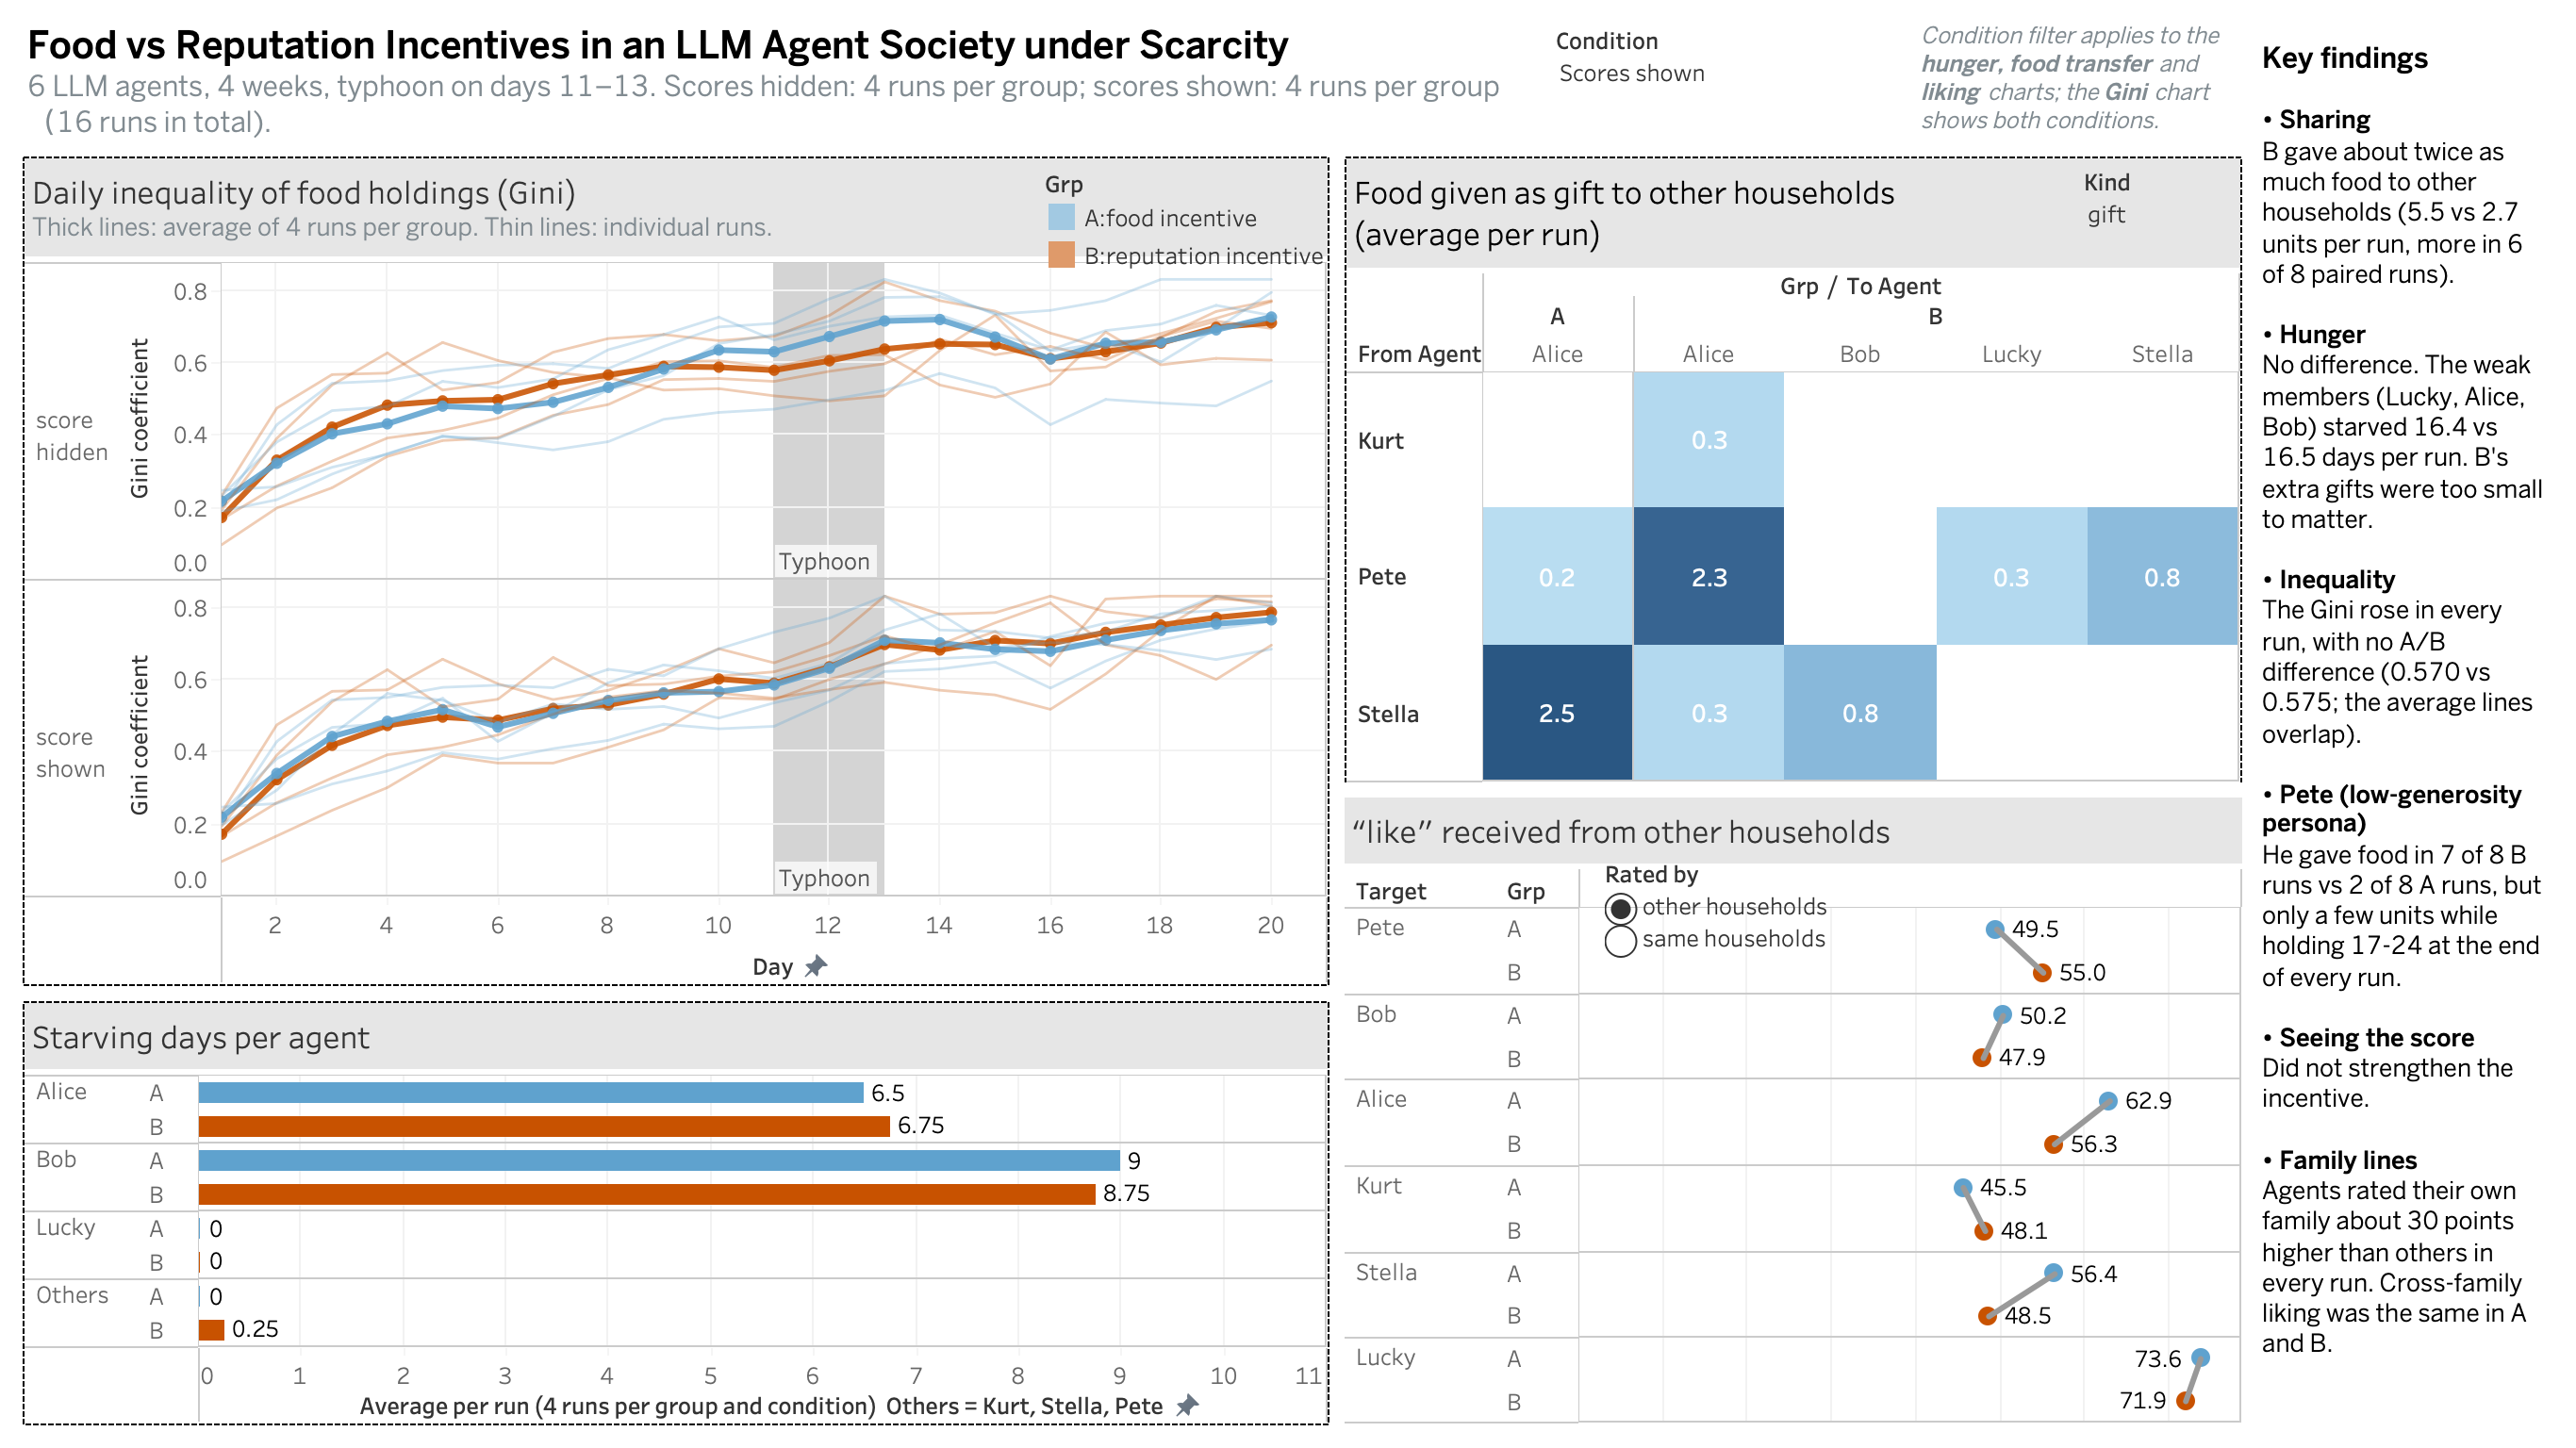

Layout of this report page (visuals, bound fields, positions):
{"tool":"tableau","page":{"name":"IslandSurvivalOverview","canvas":[1366,768],"ordinal":0},"visuals":[{"type":"text","box":[8,8,813,70.8]},{"type":"parameter","param":"[Parameters].[Parameter 5453904584884228]","box":[821,8,191,70.8]},{"type":"text","box":[1012,8,181,70.8]},{"type":"text","box":[1193,8,165,752]},{"type":"worksheet","title":"Daily inequality of food holdings (Gini)","mark":"Line","rows":["feedback","gini","gini"],"cols":["t"],"box":[8,78.8,701,448.2]},{"type":"worksheet","title":"Trsnsfers","mark":"Square","rows":["from_agent"],"cols":["grp","to_agent"],"box":[709,78.8,484,340.6]},{"type":"legend","title":"Daily inequality of food holdings (Gini)","param":"[federated.1o6ms8h1bqunrw189seap0iqwsc2].[none:grp:nk]","box":[553,87,153,61]},{"type":"filter","title":"Trsnsfers","param":"[federated.02tk4ed1qqo72s1bp3ms80vs5a6b].[none:kind:nk]","box":[1105,87,78,55]},{"type":"legend","title":"Daily inequality of food holdings (Gini)","param":"[federated.1o6ms8h1bqunrw189seap0iqwsc2].[none:run:nk]","box":[640,100,90,179]},{"type":"worksheet","title":"ratings","mark":"Circle","rows":["target","grp"],"cols":["like","like"],"box":[709,419.4,484,340.6]},{"type":"filter","title":"ratings","param":"[federated.0p89w161vf2pou10zlxr90y313l6].[none:same_household:ok]","box":[851,454,168,89]},{"type":"worksheet","title":"Hunger","mark":"Automatic","rows":["grp"],"cols":["Calculation_5453904563056640"],"box":[8,527,701,233]}]}

Visuals, with their boxes in screenshot pixels (x1, y1, x2, y2), scaled from the page's 1366x768 canvas onto the 2576x1448 screenshot:
text: [15, 15, 1548, 149]
parameter: [1548, 15, 1908, 149]
text: [1908, 15, 2250, 149]
text: [2250, 15, 2561, 1433]
"Daily inequality of food holdings (Gini)" worksheet (Line marks): [15, 149, 1337, 994]
"Trsnsfers" worksheet (Square marks): [1337, 149, 2250, 791]
"Daily inequality of food holdings (Gini)" legend: [1043, 164, 1331, 279]
"Trsnsfers" filter: [2084, 164, 2231, 268]
"Daily inequality of food holdings (Gini)" legend: [1207, 189, 1377, 526]
"ratings" worksheet (Circle marks): [1337, 791, 2250, 1433]
"ratings" filter: [1605, 856, 1922, 1024]
"Hunger" worksheet: [15, 994, 1337, 1433]
